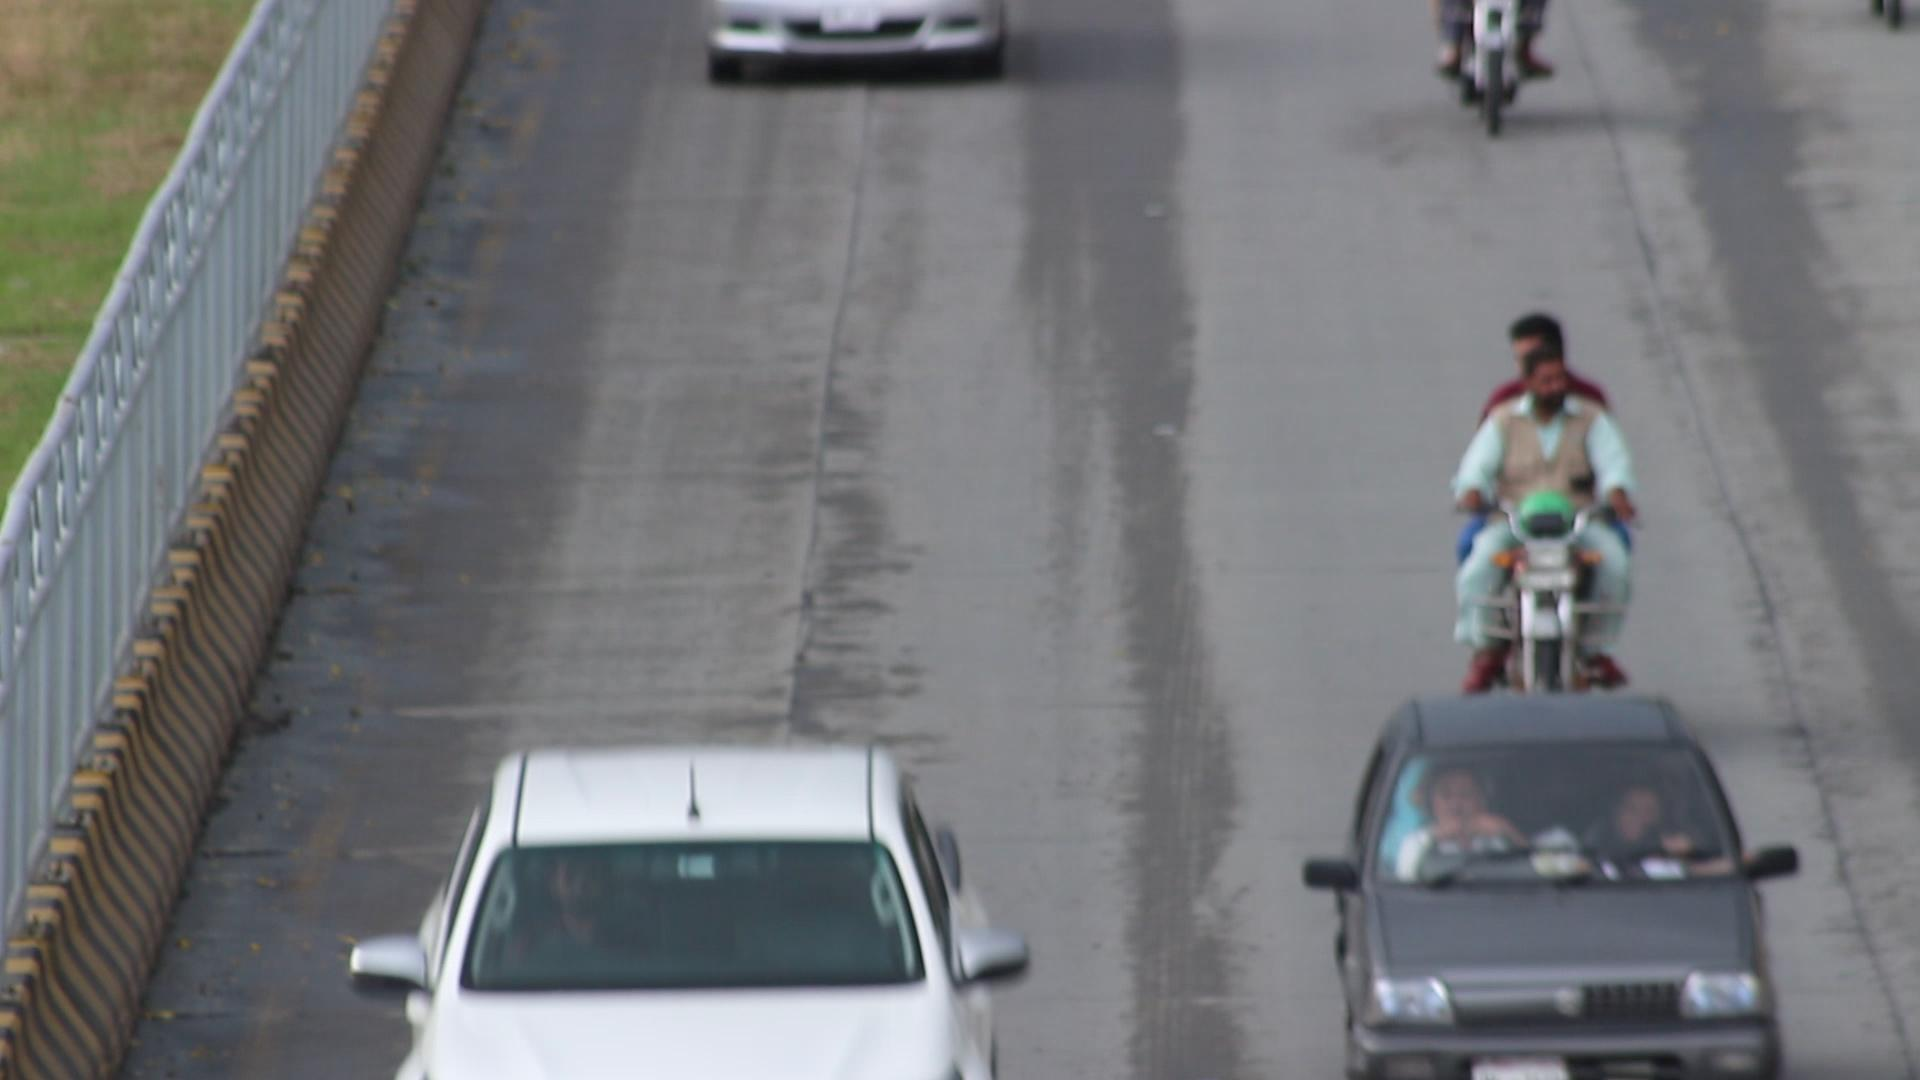windshield: (444, 814, 938, 1010), (1361, 724, 1754, 884)
